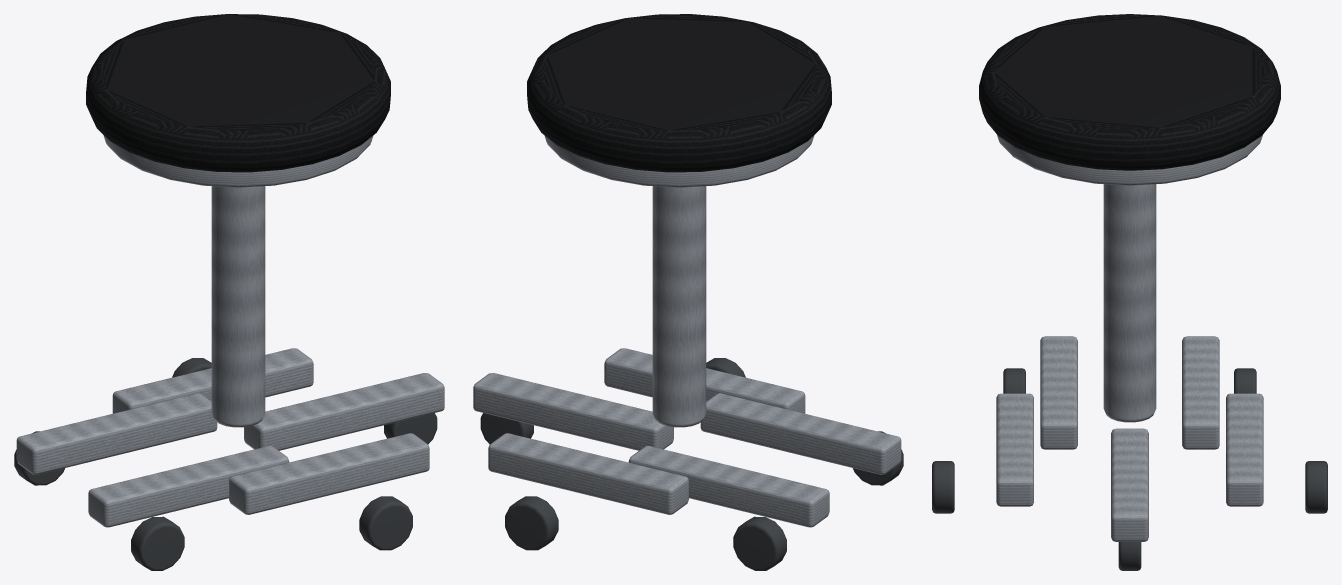
Rendered from room_l1_img2_service_stool.glb.
The picture shows the model from 3 angles, left to right: view 1: azimuth 30°, elevation 25°; view 2: azimuth 150°, elevation 25°; view 3: azimuth 270°, elevation 25°; orthographic projection.
Parts seen in each view (by area): view 1: seat_pad, gas_column, base_spoke_4, base_spoke_2, base_spoke_0, base_spoke_3, base_spoke_1, seat_underplate, base_caster_4, base_caster_3, base_caster_0, base_caster_2; view 2: seat_pad, gas_column, base_spoke_1, base_spoke_3, base_spoke_0, base_spoke_2, base_spoke_4, seat_underplate, base_caster_1, base_caster_2, base_caster_0, base_caster_3; view 3: seat_pad, gas_column, base_spoke_2, base_spoke_3, base_spoke_1, base_spoke_4, base_spoke_0, seat_underplate, base_caster_1, base_caster_4, base_caster_0, base_caster_2 (+1 smaller).
Part boxes in pixels (x1,y1,x2,y2): seat_pad: (86, 14, 390, 172); gas_column: (211, 186, 265, 427); base_spoke_4: (229, 433, 429, 514); base_spoke_2: (16, 393, 217, 474); base_spoke_0: (244, 373, 444, 450); base_spoke_3: (88, 446, 289, 527); base_spoke_1: (112, 348, 313, 413); seat_underplate: (103, 135, 373, 187); base_caster_4: (359, 496, 412, 550); base_caster_3: (131, 516, 184, 570); base_caster_0: (384, 413, 437, 444); base_caster_2: (14, 431, 64, 485); seat_pad: (527, 14, 831, 172); gas_column: (652, 186, 706, 427); base_spoke_1: (488, 433, 688, 514); base_spoke_3: (700, 393, 901, 474); base_spoke_0: (473, 373, 673, 450); base_spoke_2: (628, 446, 829, 527); base_spoke_4: (604, 348, 805, 413); seat_underplate: (544, 135, 814, 187); base_caster_1: (505, 496, 558, 550); base_caster_2: (733, 516, 786, 570); base_caster_0: (480, 413, 533, 444); base_caster_3: (853, 431, 903, 485); seat_pad: (979, 14, 1280, 170); gas_column: (1103, 184, 1156, 422); base_spoke_2: (1182, 336, 1219, 449); base_spoke_3: (1040, 336, 1077, 449); base_spoke_1: (1226, 393, 1263, 506); base_spoke_4: (996, 393, 1033, 506); base_spoke_0: (1111, 428, 1148, 541); seat_underplate: (997, 135, 1262, 185); base_caster_1: (1305, 461, 1327, 513); base_caster_4: (932, 461, 954, 513); base_caster_0: (1118, 542, 1141, 570); base_caster_2: (1234, 368, 1256, 393).
Bounding box in the file's own units: 0.5694 × 0.605 × 0.5245.
Materials: 4 (2 with a texture image).
